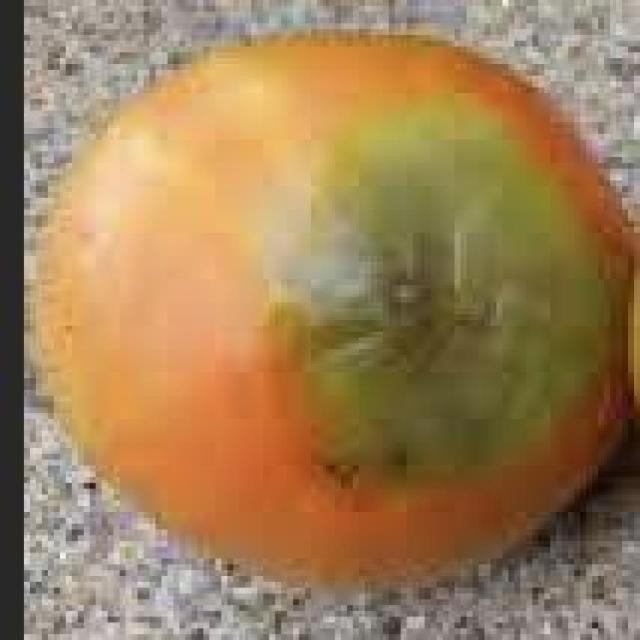Sunscald Fruit: (97, 50, 408, 334)
